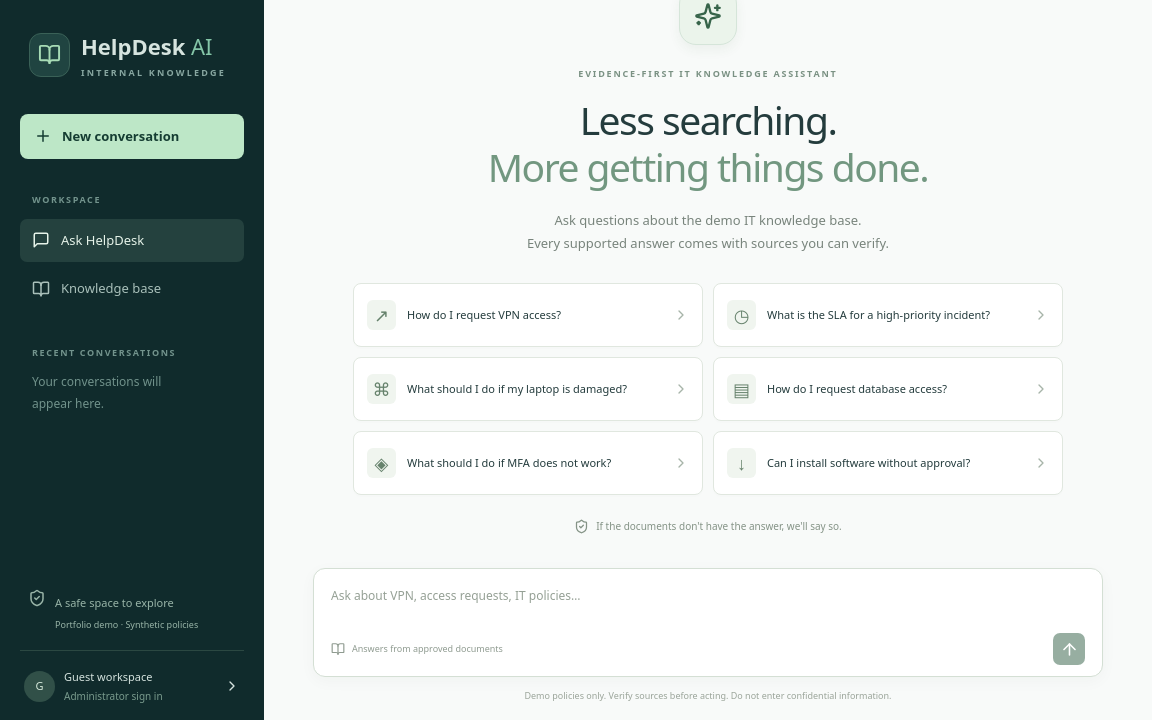
Test: quota uses a source answer and explains rewriting is limited
(page scrolled)
Type "MFA remote work" into the text box named "Ask an IT question". click: (708,607)
box: [331, 586, 1085, 627]
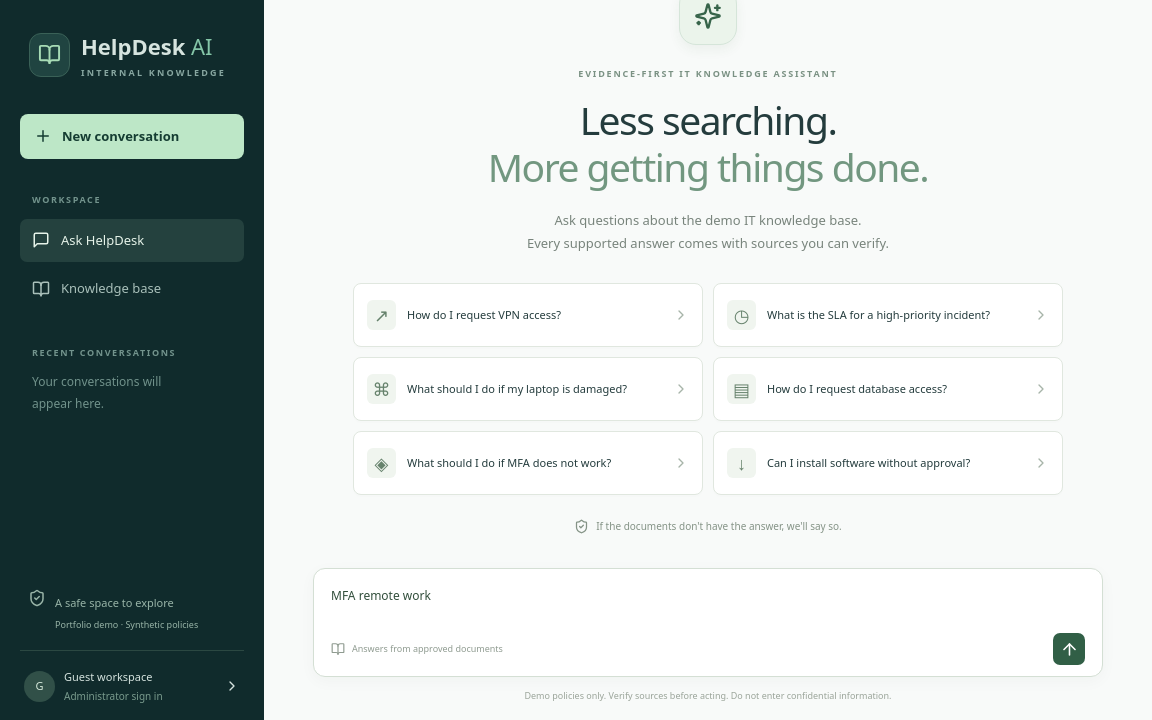
Click the button named "Send question". click: (1069,649)
box: [1053, 633, 1085, 665]
(page scrolled)
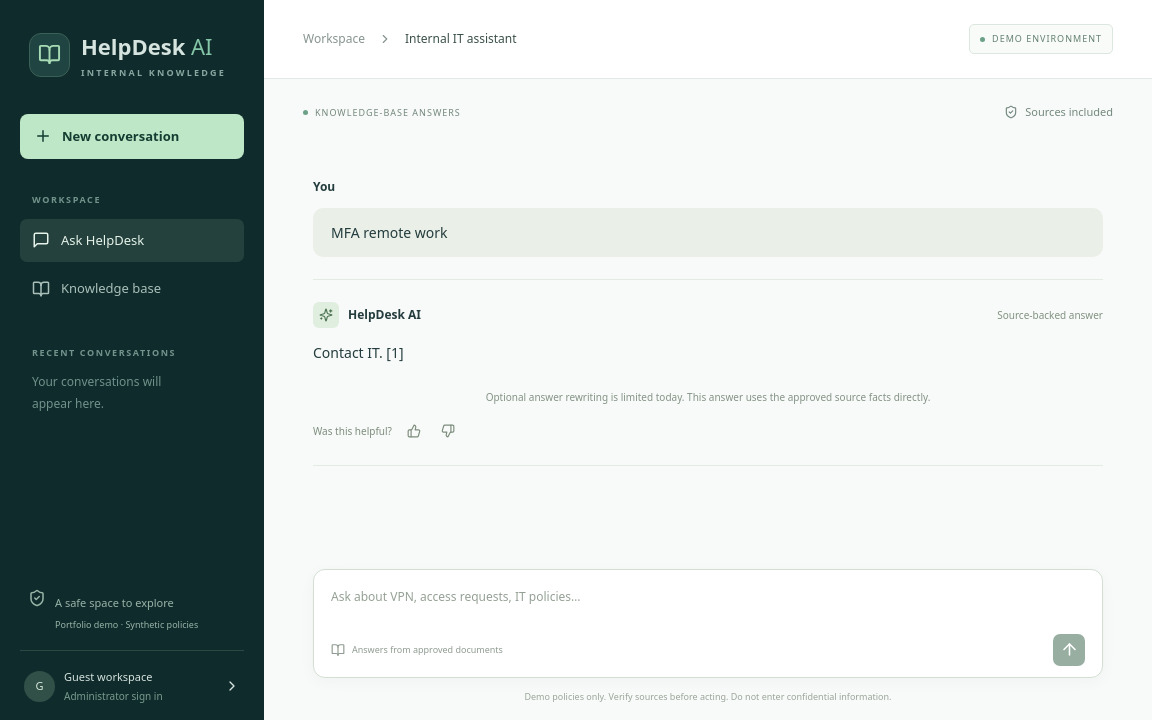
Expected: the text "Optional answer rewriting is limited today" is shown, [486, 390, 930, 404]
Expected: the text "Contact IT. [1]" is shown, [313, 343, 404, 362]
